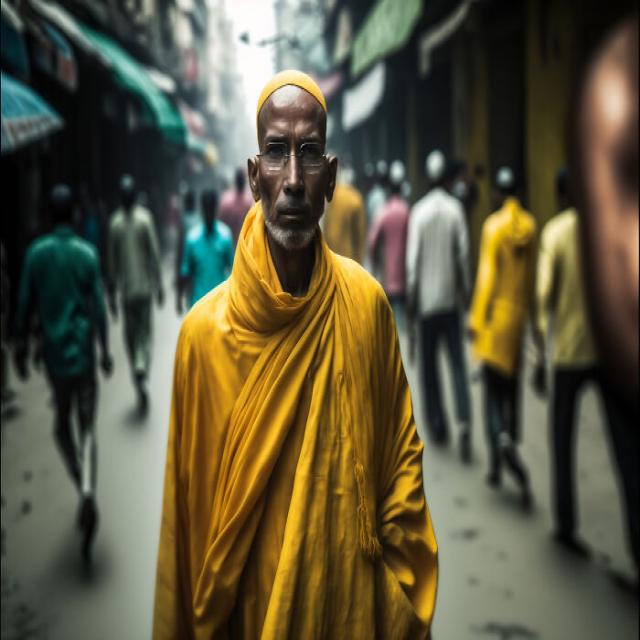Ai human 2: (154, 53, 442, 640)
